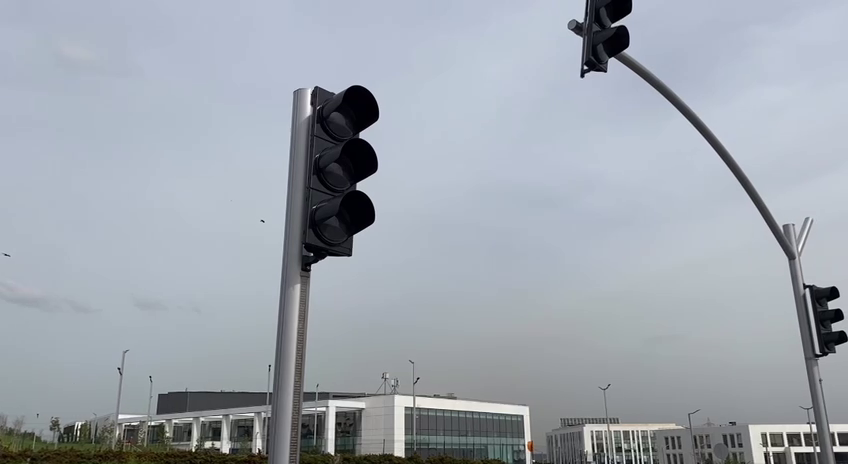trafficLight: (295, 80, 390, 264), (576, 1, 635, 80), (801, 283, 848, 358)
